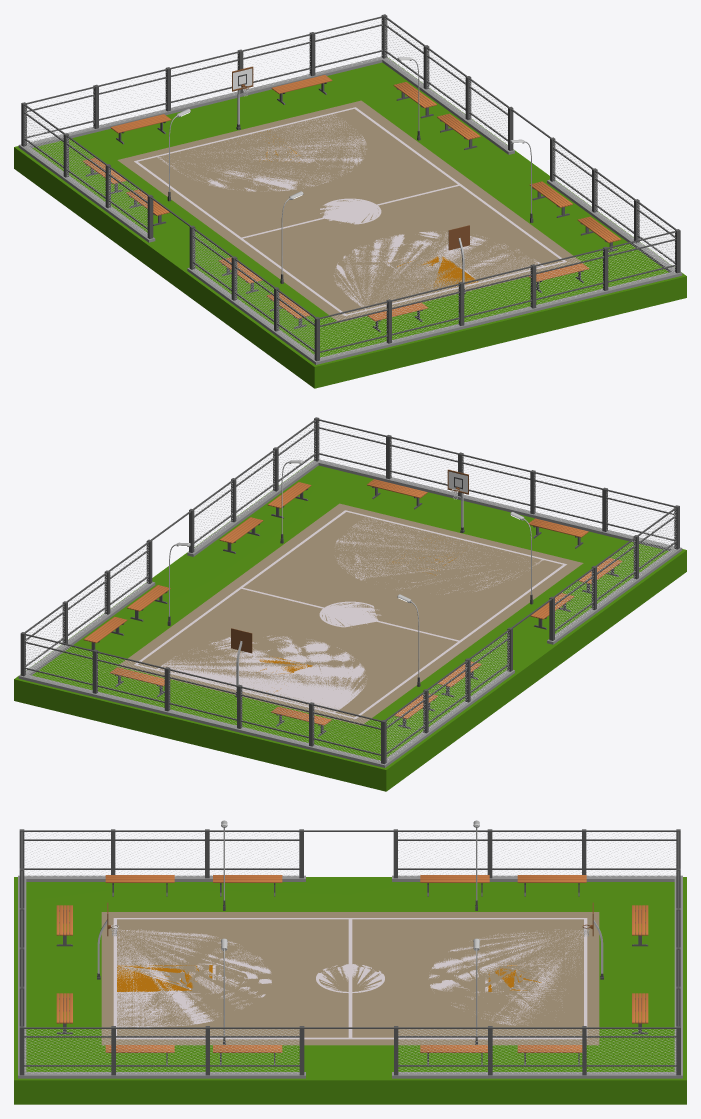
The model's file is Сourt.fbx.
The picture shows the model from 3 angles, top to bottom: view 1: azimuth 30°, elevation 25°; view 2: azimuth 150°, elevation 25°; view 3: azimuth 270°, elevation 25°; orthographic projection. The views are drawn at different scales.
Visible parts, largest first — view 1: Cube, Cube.006, Cube.005, Cube.001, Cylinder.001, base, Cube.020, Cube.019, Cube.016, Cube.018; view 2: Cube, Cube.006, Cube.005, Cube.001, Cylinder.001, base, Cube.022, Cube.021, Cube.016, Cube.017, Cube.015; view 3: Cube, Cube.006, Cube.005, Cube.001, base, Cylinder.001, Cube.014, Cube.004, Cube.021, Cube.019, Cube.003, Cube.002 (+6 smaller).
Part boxes in pixels (<box>): Cube: <box>14,57,686,388</box>; Cube.006: <box>24,18,675,357</box>; Cube.005: <box>21,14,680,361</box>; Cube.001: <box>18,56,682,364</box>; Cylinder.001: <box>232,66,469,294</box>; base: <box>167,57,533,283</box>; Cube.020: <box>271,75,332,104</box>; Cube.019: <box>110,114,171,144</box>; Cube.016: <box>529,181,572,217</box>; Cube.018: <box>393,82,436,118</box>; Cube: <box>14,460,686,791</box>; Cube.006: <box>25,421,676,761</box>; Cube.005: <box>20,417,679,764</box>; Cube.001: <box>18,459,682,767</box>; Cylinder.001: <box>231,469,468,697</box>; base: <box>167,460,533,686</box>; Cube.022: <box>367,479,427,509</box>; Cube.021: <box>528,518,588,548</box>; Cube.016: <box>219,517,263,553</box>; Cube.017: <box>267,482,311,518</box>; Cube.015: <box>127,585,170,621</box>; Cube: <box>14,877,686,1104</box>; Cube.006: <box>24,832,676,1073</box>; Cube.005: <box>19,829,680,1075</box>; Cube.001: <box>18,875,682,1078</box>; base: <box>221,820,479,1044</box>; Cylinder.001: <box>97,902,603,979</box>; Cube.014: <box>517,875,586,896</box>; Cube.004: <box>105,875,174,896</box>; Cube.021: <box>56,905,72,946</box>; Cube.019: <box>632,905,648,946</box>; Cube.003: <box>213,875,282,896</box>; Cube.002: <box>420,875,489,896</box>.
Bounding box in the file's own units: 2398 × 669 × 3353.
